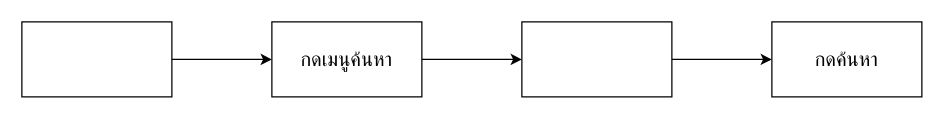
Some shapes in this 944 by 119 pixel diagram are drawn without their labels. The centre of each missing label's shape, as x and y in pixels:
"ค้นหารายการอาหาร" goes at point 96,59.
"พิมพ์รายการอาหาร" goes at point 596,59.
